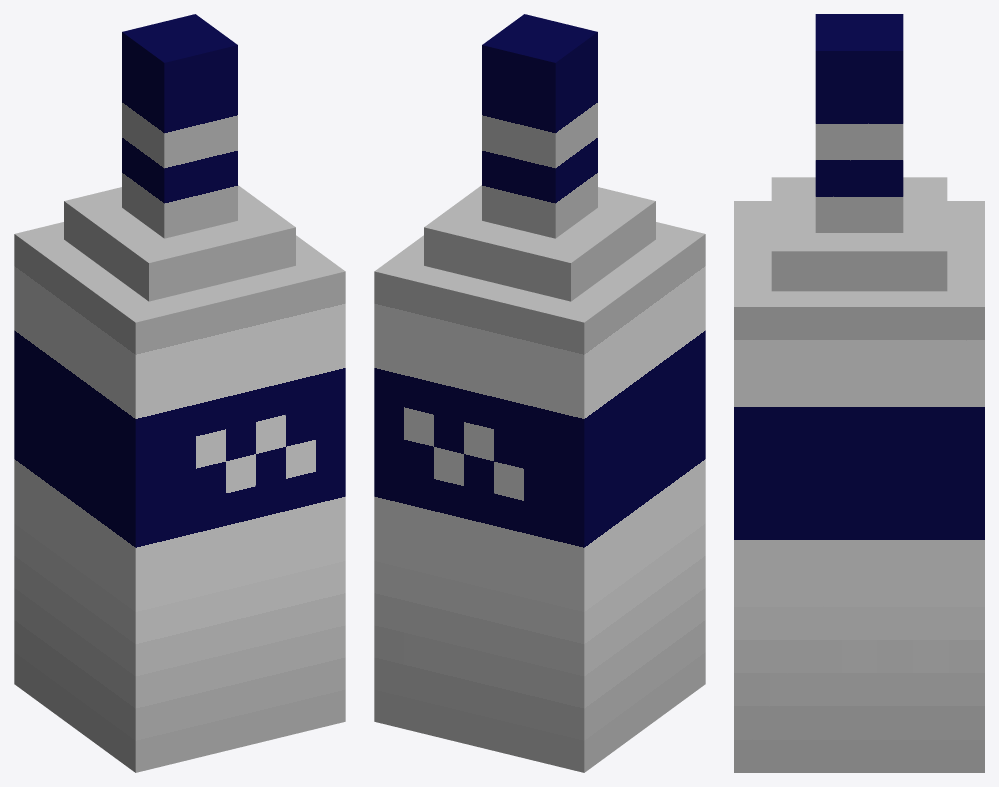
File: vodka.glb
3 views of the same model, side by side, from view 1: azimuth 30°, elevation 25°; view 2: azimuth 150°, elevation 25°; view 3: azimuth 270°, elevation 25° (orthographic). The views are drawn at different scales.
Visible parts, largest first — view 1: cube_0, cube_2, cube_1; view 2: cube_0, cube_2, cube_1; view 3: cube_0, cube_2, cube_1.
Part boxes in pixels (box(x1,y1,x2,y2)): cube_0: box(14, 222, 345, 772); cube_2: box(122, 14, 237, 238); cube_1: box(64, 185, 295, 301); cube_0: box(374, 222, 705, 772); cube_2: box(482, 14, 597, 238); cube_1: box(424, 185, 655, 301); cube_0: box(734, 201, 984, 772); cube_2: box(815, 14, 903, 232); cube_1: box(771, 177, 947, 291).
Size of the model in its own units: 0.2133 by 0.6452 by 0.2133.
1 material, 1 textured.
